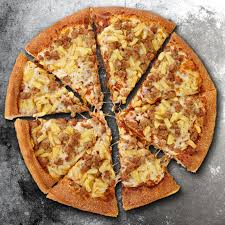pizza: (12, 9, 217, 215)
